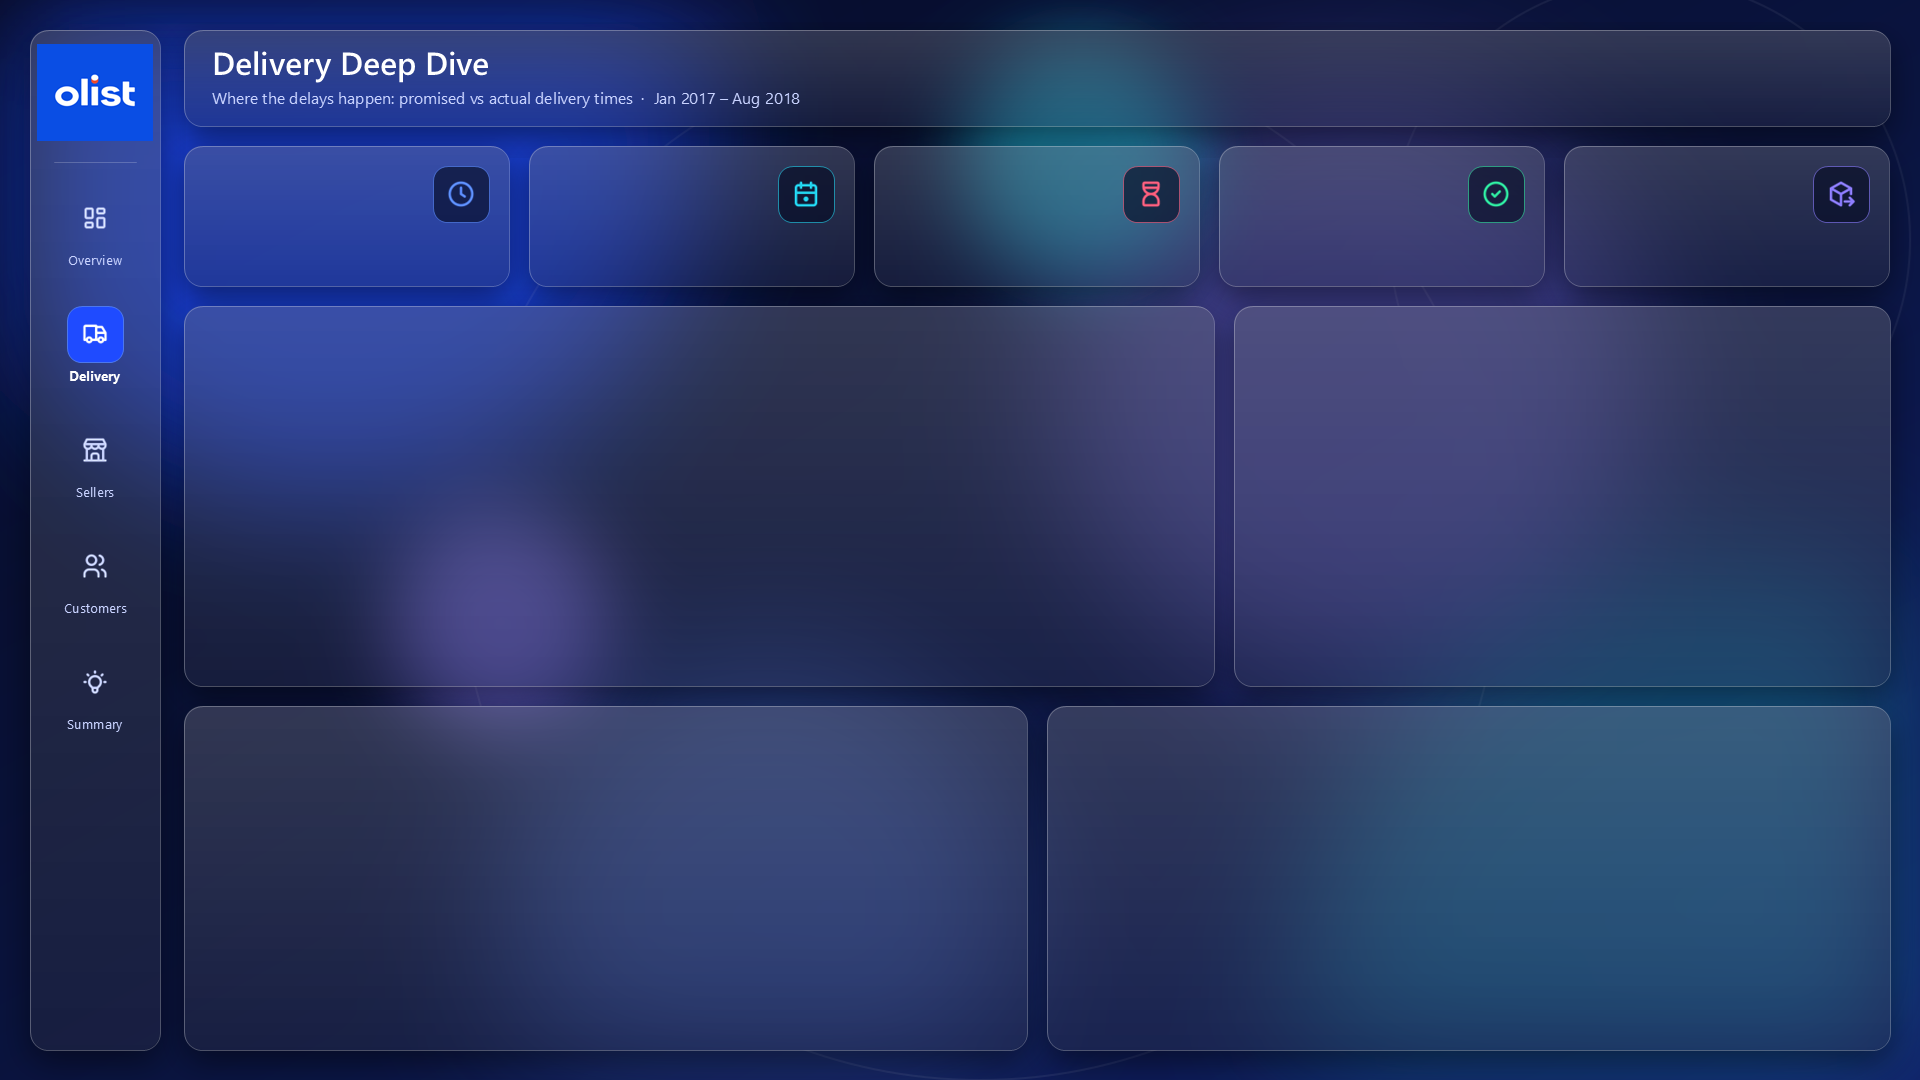

What the dashboard file says about the page in this screenshot:
{"tool":"powerbi","page":{"name":"Delivery","canvas":[1920,1080],"ordinal":2},"visuals":[{"type":"cardVisual","fields":{"Data":["_Measures.Avg Delivery Days"]},"box":[186.5,147.3,233.7,153.2],"z":0},{"type":"slicer","fields":{"Values":["Calendar.Year-Month"]},"box":[1563.1,39.3,313.8,80.5],"z":1000},{"type":"slicer","fields":{"Values":["Customers.customer_state"]},"box":[1140.5,38.9,315.4,79.9],"z":2000},{"type":"cardVisual","fields":{"Data":["_Measures.Seller Handling Days"]},"box":[1563.8,149,248.4,153.4],"z":3000},{"type":"cardVisual","fields":{"Data":["_Measures.On-Time Delivery %"]},"box":[1220.4,149,216,153.4],"z":4000},{"type":"cardVisual","fields":{"Data":["_Measures.Avg Days Late"]},"box":[877,149,218.2,153.4],"z":5000},{"type":"cardVisual","fields":{"Data":["_Measures.Avg Promised Days"]},"box":[532.1,147.3,243.5,153.2],"z":6000},{"type":"actionButton","box":[51.8,185.8,82.1,82.1],"z":7000},{"type":"actionButton","box":[51.8,419,82.1,82.1],"z":8000},{"type":"actionButton","box":[51.8,540,82.1,82.1],"z":9000},{"type":"lineChart","title":"Promised vs actual delivery days by month","fields":{"Category":["Calendar.Year-Month"],"Y":["_Measures.Avg Promised Days","_Measures.Avg Delivery Days"]},"box":[185.8,302.4,1034.6,386.6],"z":10000},{"type":"lineClusteredColumnComboChart","title":"Review score drops fast once late","fields":{"Category":["Orders.Delay Bucket"],"Y":["_Measures.Delivered Orders"],"Y2":["_Measures.Avg Review Score"]},"box":[1236.4,299.6,660.4,388.2],"z":11000},{"type":"barChart","title":"Where late orders lose time","fields":{"Category":["Orders.Delivery Status"],"Y":["_Measures.Seller Handling Days","_Measures.Carrier Transit Days"]},"box":[185.7,704.7,844,341.8],"z":12000},{"type":"scatterChart","title":"Thin buffers mean more late deliveries","fields":{"Category":["Customers.customer_state"],"X":["_Measures.Delivery Buffer Days"],"Y":["_Measures.Late Delivery %"]},"box":[1049.8,704.2,846.7,341.3],"z":13000},{"type":"actionButton","box":[51.8,654.5,82.1,79.9],"z":13001}]}

Visuals, with their boxes on the page's 1920x1080 design canvas (x1, y1, x2, y2). These are canvas units, not pixel positions in the 1920x1080 screenshot, which may show the page scaled, cropped or inside an application window:
cardVisual - _Measures.Avg Delivery Days: bbox=(186, 147, 420, 300)
slicer - Calendar.Year-Month: bbox=(1563, 39, 1877, 120)
slicer - Customers.customer_state: bbox=(1140, 39, 1456, 119)
cardVisual - _Measures.Seller Handling Days: bbox=(1564, 149, 1812, 302)
cardVisual - _Measures.On-Time Delivery %: bbox=(1220, 149, 1436, 302)
cardVisual - _Measures.Avg Days Late: bbox=(877, 149, 1095, 302)
cardVisual - _Measures.Avg Promised Days: bbox=(532, 147, 776, 300)
actionButton: bbox=(52, 186, 134, 268)
actionButton: bbox=(52, 419, 134, 501)
actionButton: bbox=(52, 540, 134, 622)
"Promised vs actual delivery days by month" lineChart: bbox=(186, 302, 1220, 689)
"Review score drops fast once late" lineClusteredColumnComboChart: bbox=(1236, 300, 1897, 688)
"Where late orders lose time" barChart: bbox=(186, 705, 1030, 1046)
"Thin buffers mean more late deliveries" scatterChart: bbox=(1050, 704, 1896, 1046)
actionButton: bbox=(52, 654, 134, 734)
